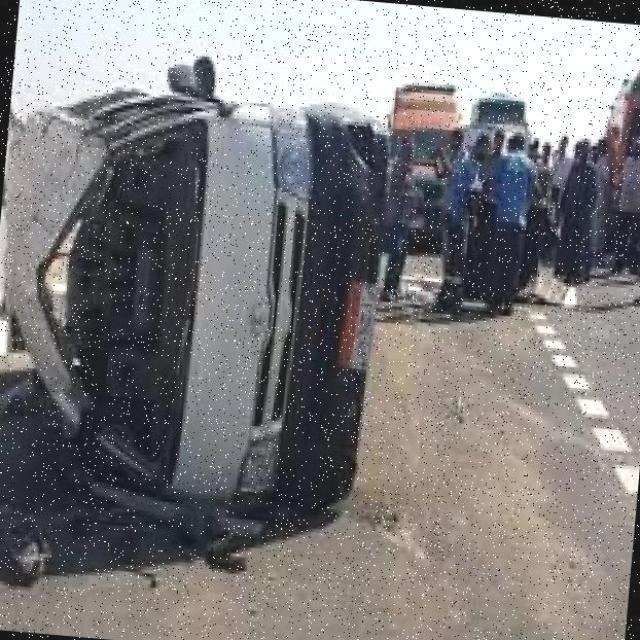accident: (0, 26, 425, 569)
